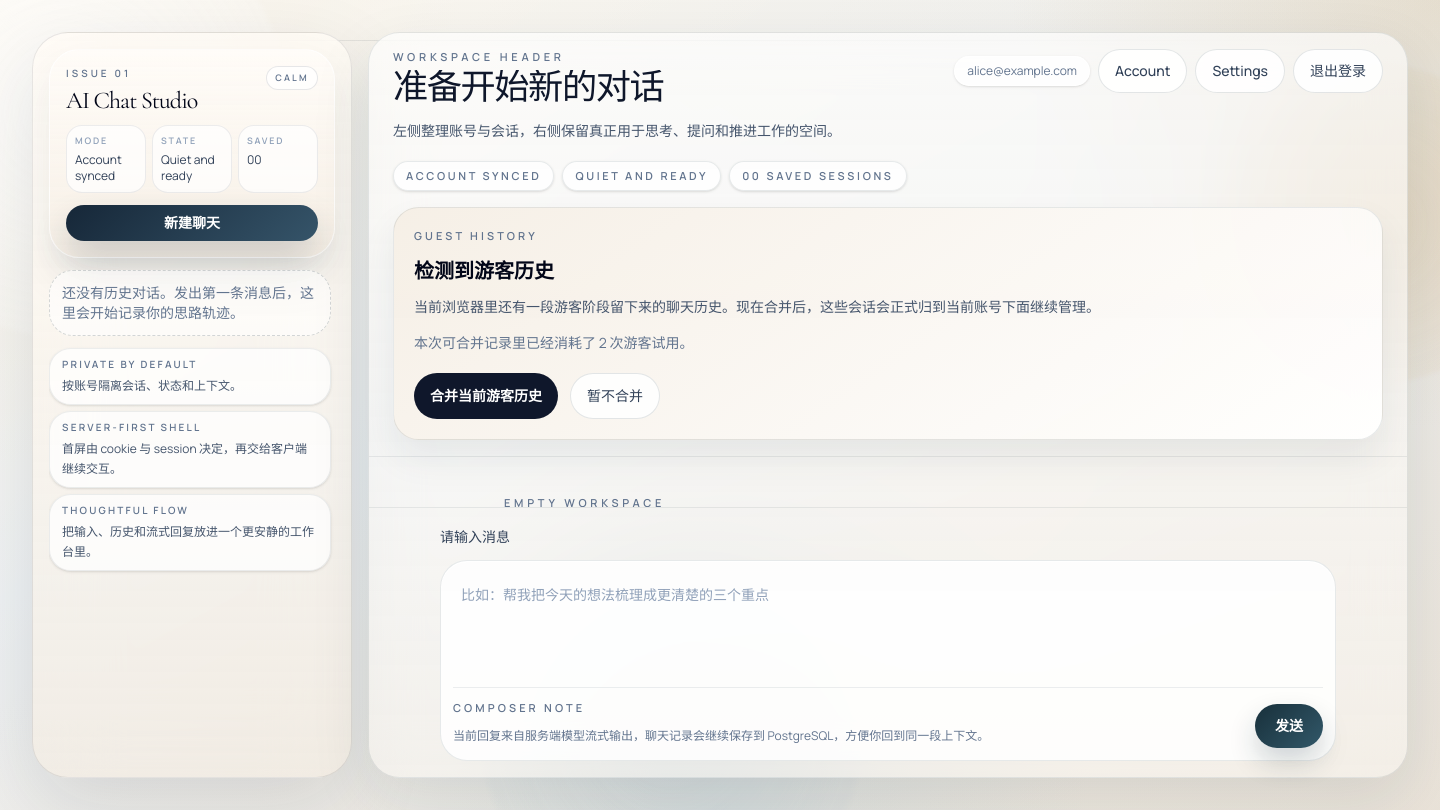
Test: ChatApp › hides the merge prompt when the user chooses not to merge yet
The image size is (1440, 810).
What coordinates should you click on to do the following:
click the button "暂不合并"
I would click on:
 (615, 396)
Its box is [570,373,660,419].
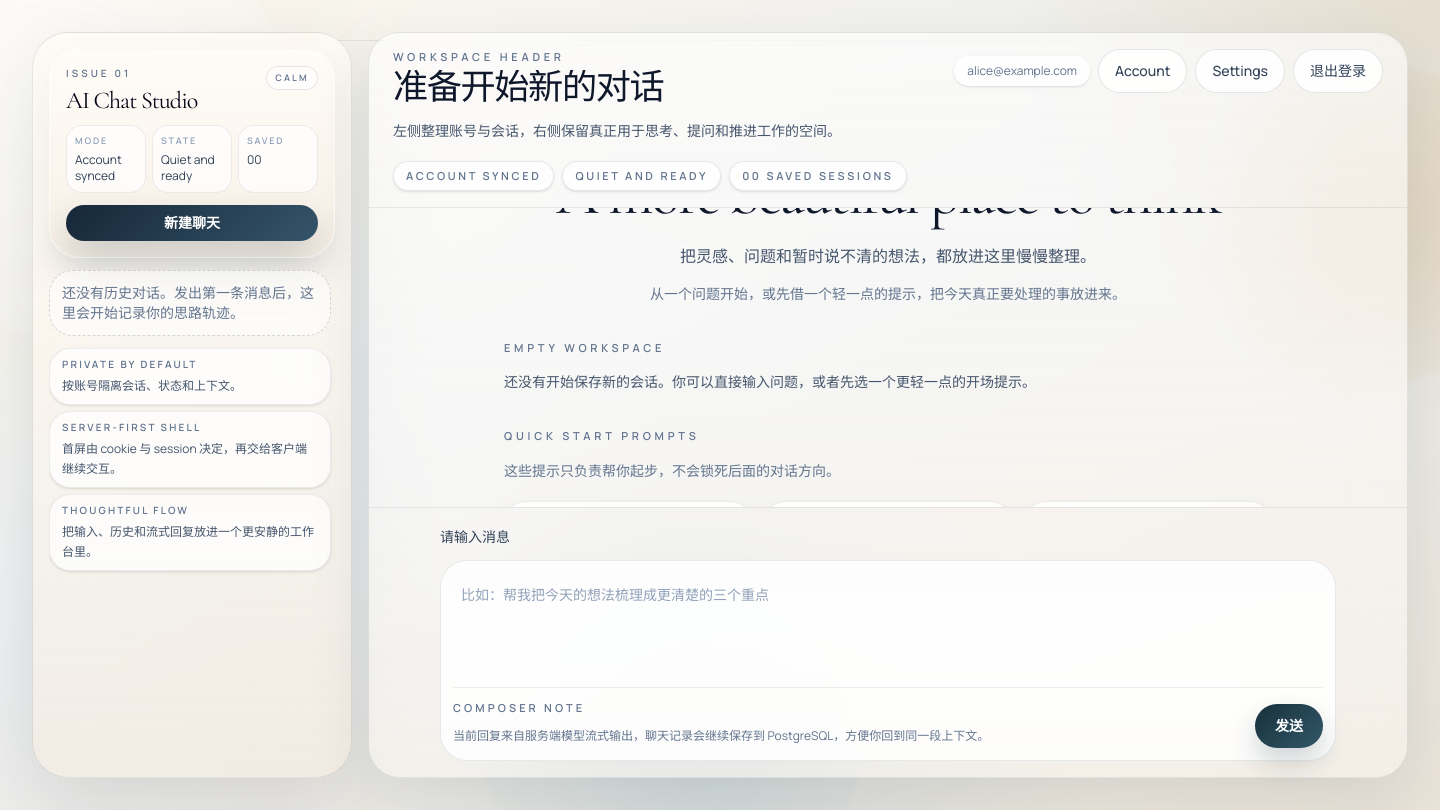
Expected: the heading "检测到游客历史" is gone
